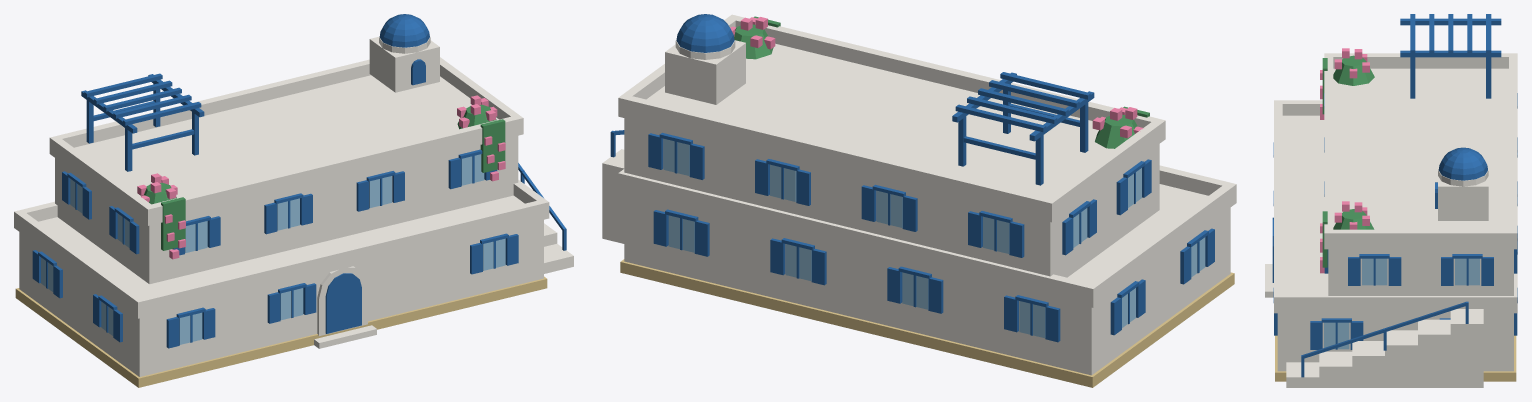
The model's file is house-2x1-2f-third-aegean-a.glb.
3 renders of one model, left to right at view 1: azimuth 30°, elevation 25°; view 2: azimuth 150°, elevation 25°; view 3: azimuth 270°, elevation 25°, orthographic. The views are drawn at different scales.
Parts seen in each view (by area): view 1: house-2x1-2f-third-aegean-a; view 2: house-2x1-2f-third-aegean-a; view 3: house-2x1-2f-third-aegean-a.
Boxes of the visible parts, x1,y1,x2,y2 form: house-2x1-2f-third-aegean-a: [14, 14, 573, 387]; house-2x1-2f-third-aegean-a: [602, 14, 1236, 387]; house-2x1-2f-third-aegean-a: [1265, 14, 1517, 387].
Bounding box in the file's own units: 1.99 × 0.9132 × 1.
Materials: 1 (1 with a texture image).
